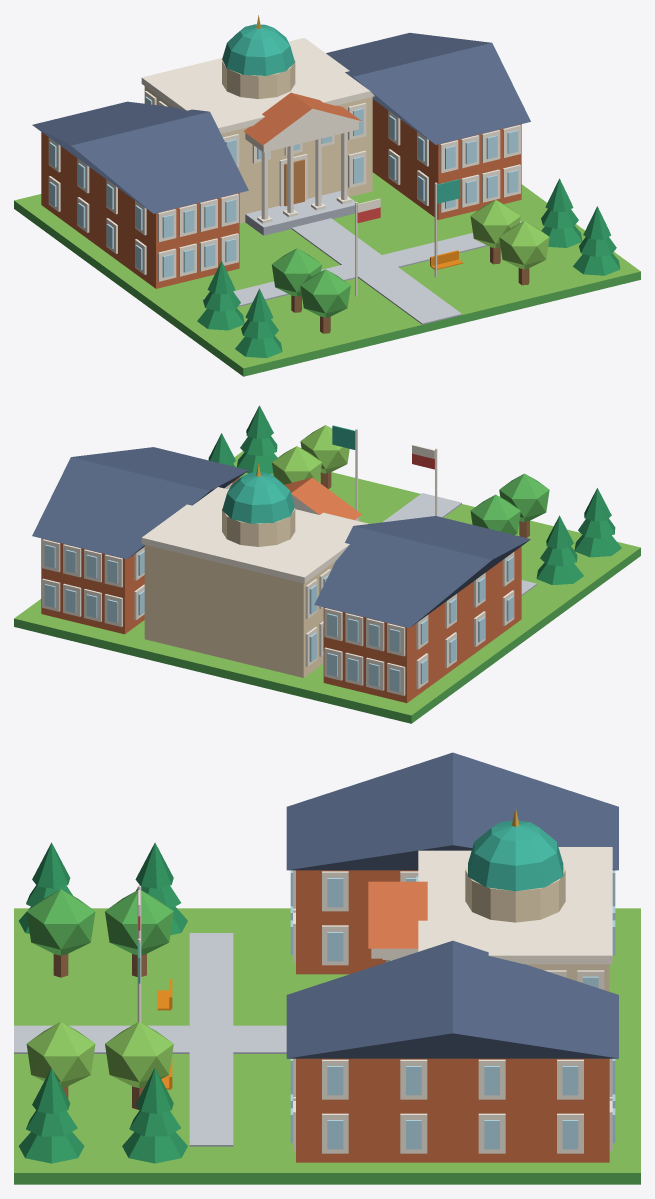
File: public_university.glb
The picture shows the model from 3 angles, top to bottom: view 1: azimuth 30°, elevation 25°; view 2: azimuth 150°, elevation 25°; view 3: azimuth 270°, elevation 25°; orthographic projection. The views are drawn at different scales.
Visible parts, largest first — view 1: public_university; view 2: public_university; view 3: public_university.
Boxes of the visible parts, <box> form: public_university: <box>14,15,640,376</box>; public_university: <box>14,405,640,723</box>; public_university: <box>14,752,640,1184</box>.
Bounding box in the file's own units: 2.12 × 0.864 × 2.
